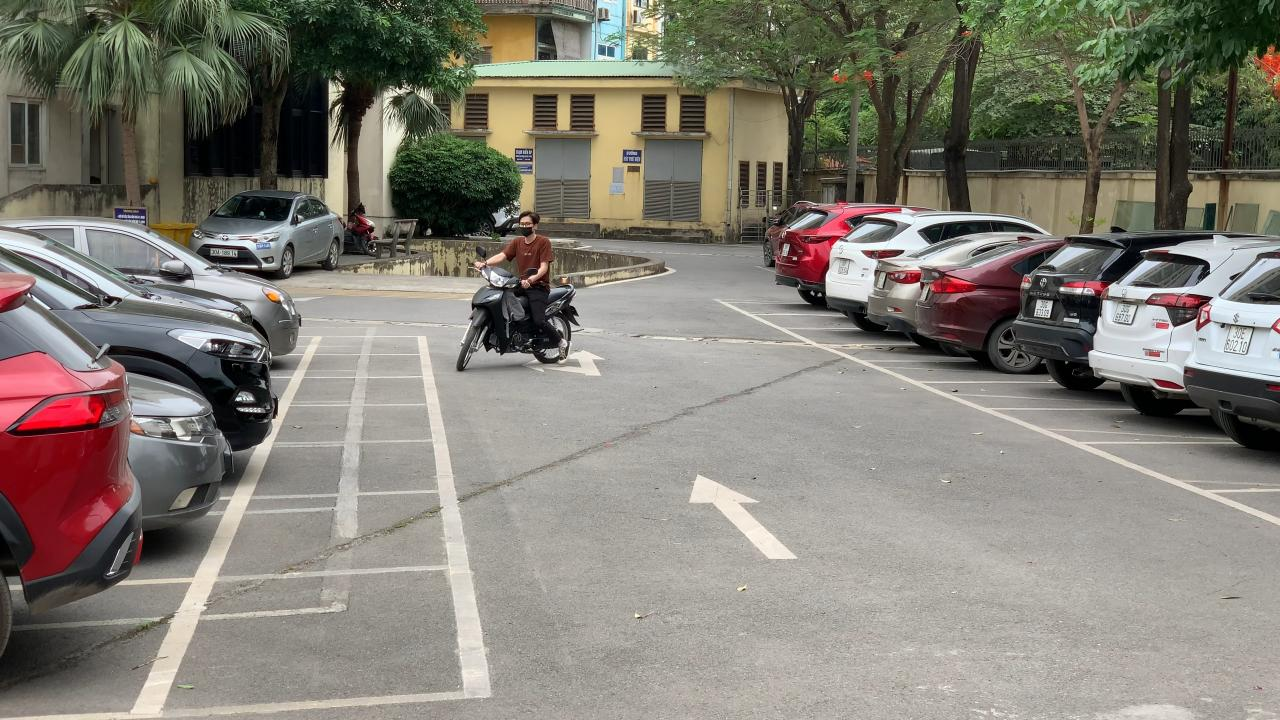motorcyclist: (456, 210, 580, 375)
